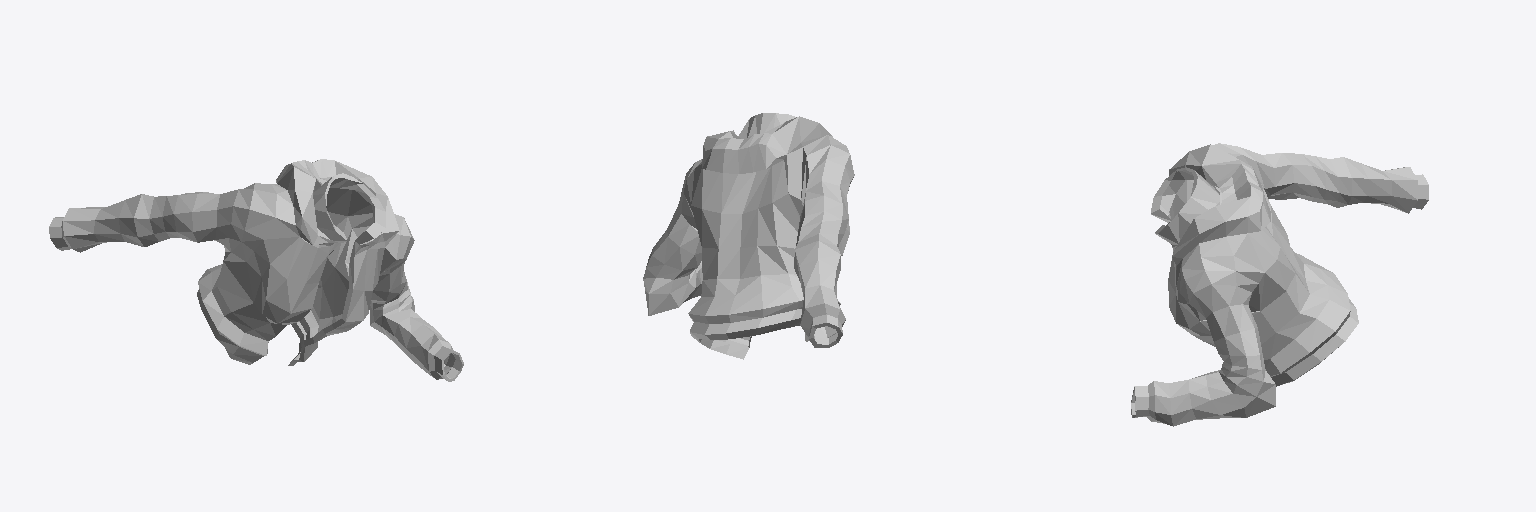
Rendered from Jacket Sculpt Part 1.obj.
3 renders of one model, left to right at view 1: azimuth 30°, elevation 25°; view 2: azimuth 150°, elevation 25°; view 3: azimuth 270°, elevation 25°, orthographic.
Visible parts, largest first — view 1: Jacket; view 2: Jacket; view 3: Jacket.
Part boxes in pixels (x1,y1,x2,y2): Jacket: (49, 159, 463, 381); Jacket: (643, 113, 854, 359); Jacket: (1131, 143, 1428, 426).
Size of the model in its own units: 7.36 by 5.68 by 6.77.